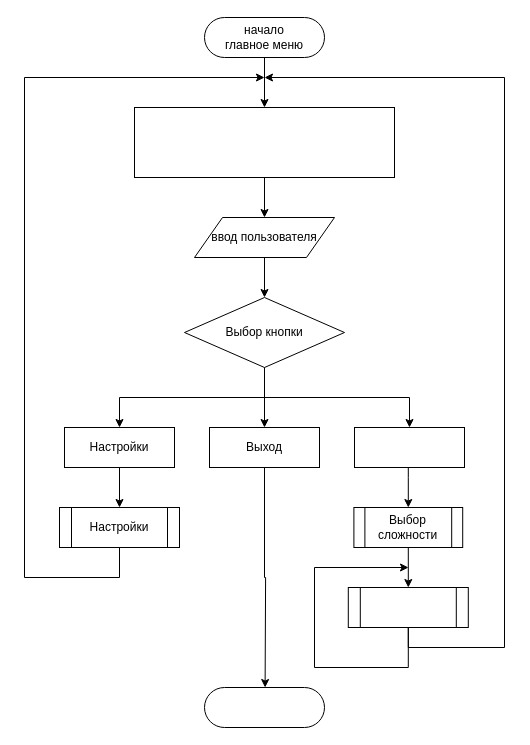
Some shapes in this 530 by 745 pixel diagram are drawn without their labels. Here are the shapes that lost their labels. From the top down, the box of each, then its label:
(134, 106, 394, 178): Показать окно главное меню (лучший счёт, кнопки: Играть, Настройки, Выход)
(354, 426, 464, 468): Играть
(347, 586, 468, 628): игровое поле
(204, 686, 324, 728): конец главное меню
